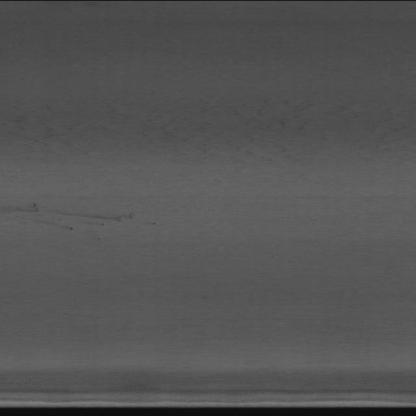inclusion: (24, 203, 133, 229)
silk_spot: (12, 90, 408, 168)
